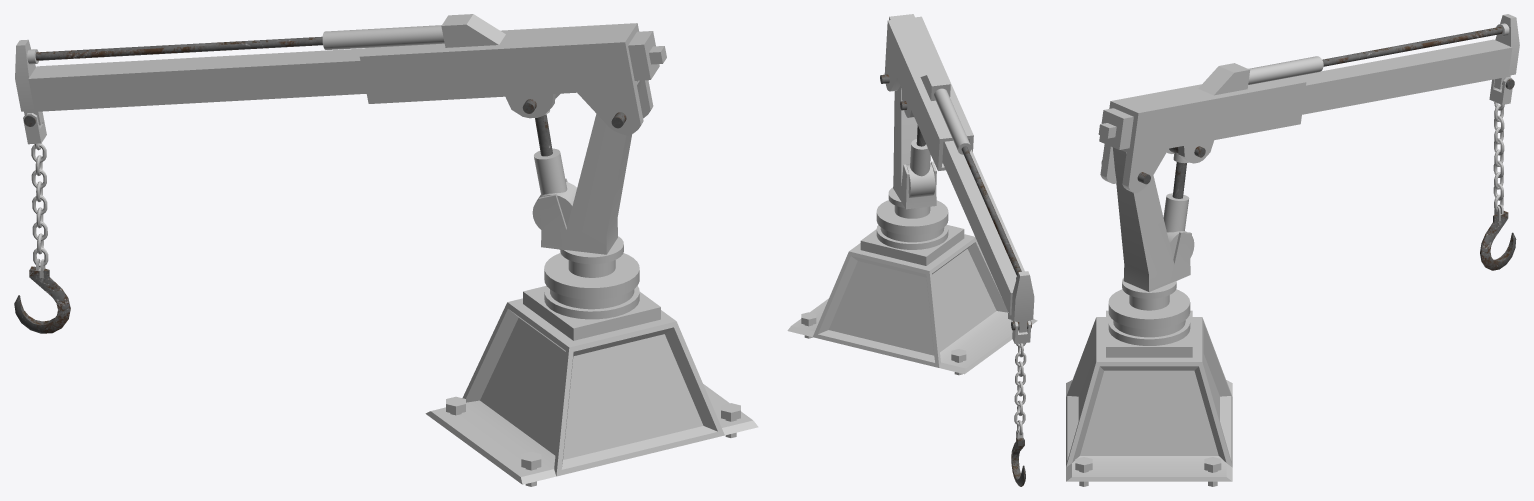
File: Component_CraneA_grp.fbx
3 renders of one model, left to right at view 1: azimuth 30°, elevation 25°; view 2: azimuth 150°, elevation 25°; view 3: azimuth 270°, elevation 25°, orthographic. The views are drawn at different scales.
Visible parts, largest first — view 1: craneA_metalRust, craneA_metalB, craneA_metalC; view 2: craneA_metalRust, craneA_metalB, craneA_metalC; view 3: craneA_metalRust, craneA_metalB, craneA_metalC.
Part boxes in pixels (<box>): craneA_metalRust: <box>23,25,758,486</box>; craneA_metalB: <box>15,14,666,340</box>; craneA_metalC: <box>14,36,626,333</box>; craneA_metalRust: <box>787,88,1037,441</box>; craneA_metalB: <box>860,14,1034,332</box>; craneA_metalC: <box>880,74,1031,486</box>; craneA_metalRust: <box>1066,23,1512,486</box>; craneA_metalB: <box>1098,14,1519,357</box>; craneA_metalC: <box>1101,27,1516,270</box>.
Bounding box in the file's own units: 435 × 345 × 410.
